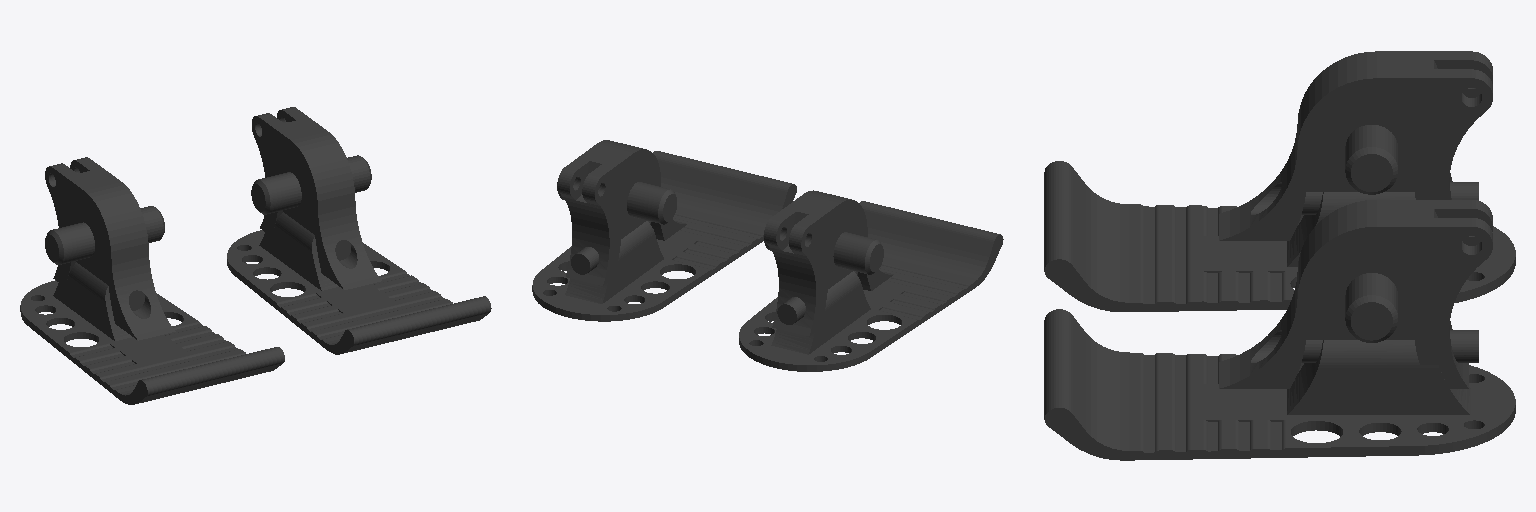
URDF robot description (robot):
<!-- Copyright 2016-2017 The MathWorks, Inc. -->

<robot name = "robot">

<material name = "red_A">
	<color rgba = "0.87 0.32 0.16 1" />
</material>

<material name = "red_B">
	<color rgba = "0.88 0.57 0.48 1" />
</material>

<material name = "gray_A">
	<color rgba = "0.3 0.3 0.3 1" />
</material>

<material name = "gray_B">
	<color rgba = "1 1 1 1" />
</material>

<!-- Trunk Start -->
<link name = "trunk">
	<inertial>
		<origin xyz = "0 0 -0.109" rpy = "0 0 0" />
		<mass value = "0.369" />
		<inertia ixx = "1.334e-3" iyy = "1.935e-3" izz = "6.712e-4" iyz = "0" ixz = "0" ixy = "0" />
	</inertial>
	
	<visual>
		<geometry>
			<mesh filename = "../Part_files/trunk.step" />
		</geometry>
		<material name = "red_A" />
	</visual>
</link>


<link name = "right_hip_yaw_roll">
	<inertial>
		<origin xyz = "+0.00 0.0 -0.03609" rpy = "0 0 0" />
		<mass value = "0" />
		<inertia ixx = "6.712e-8" iyy = "6.712e-8" izz = "6.712e-8" iyz = "0" ixz = "0" ixy = "0" />
	</inertial>

	<visual>
		<origin rpy="0 0 3.14" xyz="-0.00 0.0 -0.03609"/>
		<geometry>
			<mesh filename = "../Part_files/hip_yaw_roll.stl" />
		</geometry>
		<material name = "gray_B" />
	</visual>
</link>


<link name = "left_hip_yaw_roll">
	<inertial>
		<origin xyz = "+0.00 0.0 -0.03609" rpy = "0 0 0" />
		<mass value = "0" />
		<inertia ixx = "6.712e-8" iyy = "6.712e-8" izz = "6.712e-8" iyz = "0" ixz = "0" ixy = "0" />
	</inertial>

	<visual>
		<origin rpy="0 0 0" xyz="+0.0 0.0 -0.03609"/>
		<geometry>
			<mesh filename = "../Part_files/hip_yaw_roll.stl" />
		</geometry>
		<material name = "gray_B" />
	</visual>
</link>

<joint name = "right_hip_sagittal" type = "continuous">
	<!-- <origin xyz = "-0.01905 0 -0.1849" rpy = "0 0 0" /> -->
	<origin xyz = "-0.04205 0 -0.1849" rpy = "0 0 0" />
	<axis xyz = "0 1 0" />
	<dynamics damping = "0.001" />
	<parent link = "trunk" />
	<child link = "right_hip_yaw_roll" />
</joint>

<joint name = "left_hip_sagittal" type = "continuous">
	<!-- <origin xyz = "0.01905 0 -0.1849" rpy = "0 0 0" /> -->
	<origin xyz = "0.04205 0 -0.1849" rpy = "0 0 0" />
	<axis xyz = "0 1 0" />
	<dynamics damping = "0.001" />
	<parent link = "trunk" />
	<child link = "left_hip_yaw_roll" />
</joint>

<!-- Trunk End -->


<!-- Right Leg Start -->

<link name = "right_hip_pitch_yaw">
	<inertial>
		<origin xyz = "0 0 -0.018" rpy = "0 0 0" />
		<mass value = "0" />
		<inertia ixx = "6.712e-8" iyy = "6.712e-8" izz = "6.712e-8" iyz = "0" ixz = "0" ixy = "0" />
	</inertial>

	<visual>
		<geometry>
			<mesh filename = "../Part_files/hip_pitch_yaw.stl" />
		</geometry>
		<material name = "gray_B" />
	</visual>
</link>

<joint name = "right_hip_yaw" type = "continuous">
	<origin xyz = "-0.0 0.0 -0.03609" rpy = "0 0 0" />
	<axis xyz = "1 0 0" />
	<dynamics damping = "0.005" />
	<parent link = "right_hip_yaw_roll" />
	<child link = "right_hip_pitch_yaw" />
</joint>

<link name = "right_upper_leg">
	<inertial>
		<origin xyz = "0 0.00 0" rpy = "0 0 0" />
		<mass value = "0.176" />
		<inertia ixx = "4.075e-4" iyy = "4.285e-4" izz = "4.997e-5" iyz = "0" ixz = "0" ixy = "0" />
	</inertial>

	<visual>
		<origin rpy="0 0 0" xyz="+0.0254 0.0 0.0"/>
		<geometry>
			<mesh filename = "../Part_files/upper_leg.step" />
		</geometry>
		<material name = "gray_B" />
	</visual>
</link>

<joint name = "right_hip_pitch" type = "continuous">
	<origin xyz = "0.0 0 -0.025" rpy = "0 0 0" />
	<axis xyz = "1 0 0" />
	<dynamics damping = "0.005" />
	<parent link = "right_hip_pitch_yaw" />
	<child link = "right_upper_leg" />
</joint>

<link name = "right_lower_leg">
	<inertial>
		<origin xyz = "0.000 0.00 0" rpy = "0 0 0" />
		<mass value = "0.161" />
		<inertia ixx = "3.775e-4" iyy = "3.872e-4" izz = "3.398e-5" iyz = "0" ixz = "0" ixy = "0" />
	</inertial>

	<visual>
		<geometry>
			<mesh filename = "../Part_files/lower_leg.step" />
		</geometry>
		<material name = "gray_B" />
	</visual>
</link>

<joint name = "right_knee" type = "continuous">
	<origin xyz = "0 0 -0.1043" rpy = "0 0 0" />
	<axis xyz = "1 0 0" />
	<dynamics damping = "0.005" />
	<parent link = "right_upper_leg" />
	<child link = "right_lower_leg" />
</joint>


<link name = "right_foot_joint">
	<inertial>
		<origin xyz = "0 0 0" rpy = "0 0 0" />
		<mass value = "0.0" />
		<inertia ixx = "6.712e-20" iyy = "6.712e-20" izz = "6.712e-20" iyz = "0" ixz = "0" ixy = "0" />
	</inertial>

	<visual>
		<geometry>
			<mesh filename = "../Part_files/foot_joint.stl" />
		</geometry>
		<material name = "gray_A" />
	</visual>
</link>

<joint name = "right_ankle_pitch" type = "continuous">
	<origin xyz = "0 0.0 -0.1043" rpy = "0 0 0" />
	<axis xyz = "1 0 0" />
	<dynamics damping = "0.005" />
	<parent link = "right_lower_leg" />
	<child link = "right_foot_joint" />
</joint>


<link name = "right_foot_floor">
	<inertial>
		<origin xyz = "0 -0.013 -0.011" rpy = "0 0 0" />
		<mass value = "0.126" />
		<inertia ixx = "1.256e-4" iyy = "3.787e-5" izz = "1.145e-4" iyz = "-2.238e-5" ixz = "0" ixy = "0" />
	</inertial>

	<visual>
		<geometry>
			<mesh filename = "../Part_files/foot_floor.stl" />
		</geometry>
		<material name = "gray_A" />
	</visual>
</link>

<joint name = "right_ankle_roll" type = "continuous">
	<origin xyz = "0 0.0022 -0.0167" rpy = "0 0 0" />
	<axis xyz = "0 1 0" />
	<dynamics damping = "0.005" />
	<parent link = "right_foot_joint" />
	<child link = "right_foot_floor" />
</joint>



<!-- Right Leg End -->


<!-- Left Leg Start -->

<link name = "left_hip_pitch_yaw">
	<inertial>
		<origin xyz = "0 0 -0.018" rpy = "0 0 0" />
		<mass value = "0" />
		<inertia ixx = "6.712e-8" iyy = "6.712e-8" izz = "6.712e-8" iyz = "0" ixz = "0" ixy = "0" />
	</inertial>

	<visual>
		<geometry>
			<mesh filename = "../Part_files/hip_pitch_yaw.stl" />
		</geometry>
		<material name = "gray_B" />
	</visual>
</link>

<joint name = "left_hip_yaw" type = "continuous">
	<origin xyz = "0.0 0.0 -0.03609" rpy = "0 0 0" />
	<axis xyz = "1 0 0" />
	<dynamics damping = "0.005" />
	<parent link = "left_hip_yaw_roll" />
	<child link = "left_hip_pitch_yaw" />
</joint>

<link name = "left_upper_leg">
	<inertial>
		<origin xyz = "0 0.00 0" rpy = "0 0 0" />
		<mass value = "0.176" />
		<inertia ixx = "4.075e-4" iyy = "4.285e-4" izz = "4.997e-5" iyz = "0" ixz = "0" ixy = "0" />
	</inertial>

	<visual>
		<origin rpy="0 0 0" xyz="0.0254 0.0 0"/>
		<geometry>
			<mesh filename = "../Part_files/upper_leg.step" />
		</geometry>
		<material name = "gray_B" />
	</visual>
</link>

<joint name = "left_hip_pitch" type = "continuous">
	<origin xyz = "0 0 -0.025" rpy = "0 0 0" />
	<axis xyz = "1 0 0" />
	<dynamics damping = "0.005" />
	<parent link = "left_hip_pitch_yaw" />
	<child link = "left_upper_leg" />
</joint>

<link name = "left_lower_leg">
	<inertial>
		<origin xyz = "0.000 0.00 0" rpy = "0 0 0" />
		<mass value = "0.161" />
		<inertia ixx = "3.775e-4" iyy = "3.872e-4" izz = "3.398e-5" iyz = "0" ixz = "0" ixy = "0" />
	</inertial>

	<visual>
		<geometry>
			<mesh filename = "../Part_files/lower_leg.step" />
		</geometry>
		<material name = "gray_B" />
	</visual>
</link>

<joint name = "left_knee" type = "continuous">
	<origin xyz = "0.0 0 -0.1043" rpy = "0 0 0" />
	<axis xyz = "1 0 0" />
	<dynamics damping = "0.005" />
	<parent link = "left_upper_leg" />
	<child link = "left_lower_leg" />
</joint>

<link name = "left_foot_joint">
	<inertial>
		<origin xyz = "0 0 0" rpy = "0 0 0" />
		<mass value = "0.0" />
		<inertia ixx = "6.712e-20" iyy = "6.712e-20" izz = "6.712e-20" iyz = "0" ixz = "0" ixy = "0" />
	</inertial>

	<visual>
		<geometry>
			<mesh filename = "../Part_files/foot_joint.stl" />
		</geometry>
		<material name = "gray_A" />
	</visual>
</link>

<joint name = "left_ankle_pitch" type = "continuous">
	<origin xyz = "0 0.0 -0.1043" rpy = "0 0 0" />
	<axis xyz = "1 0 0" />
	<dynamics damping = "0.005" />
	<parent link = "left_lower_leg" />
	<child link = "left_foot_joint" />
</joint>


<link name = "left_foot_floor">
	<inertial>
		<origin xyz = "0 -0.013 -0.011" rpy = "0 0 0" />
		<mass value = "0.126" />
		<inertia ixx = "1.256e-4" iyy = "3.787e-5" izz = "1.145e-4" iyz = "-2.238e-5" ixz = "0" ixy = "0" />
	</inertial>

	<visual>
		<geometry>
			<mesh filename = "../Part_files/foot_floor.stl" />
		</geometry>
		<material name = "gray_A" />
	</visual>
</link>

<joint name = "left_ankle_roll" type = "continuous">
	<origin xyz = "0 0.0022 -0.0167" rpy = "0 0 0" />
	<axis xyz = "0 1 0" />
	<dynamics damping = "0.005" />
	<parent link = "left_foot_joint" />
	<child link = "left_foot_floor" />
</joint>



<!-- Left Leg End -->
<link name = "waistline">
	<inertial>
		<origin xyz = "0 0 0" rpy = "0 0 0" />
		<mass value = "0.0" />
		<inertia ixx = "1.008e-40" iyy = "2.751e-40" izz = "3.104e-40" iyz = "0" ixz = "0" ixy = "0" />
	</inertial>
	
	<visual>
		<geometry>
			<mesh filename = "waistline.step" />
		</geometry>
		<material name = "color_A" />
	</visual>
</link>

<joint name = "trunk_waistline_fixed" type = "fixed">
	<origin xyz = "0 0 -0.1849" rpy = "0 0 0" />
	<parent link = "trunk" />
	<child link = "waistline" />
</joint>

<link name = "shoulder_line">
	<inertial>
		<origin xyz = "0 0 0.003" rpy = "0 0 0" />
		<mass value = "0.00" />
		<inertia ixx = "1.753e-50" iyy = "4.884e-50" izz = "4.634e-50" iyz = "0" ixz = "0" ixy = "0" />
	</inertial>
	
	<visual>
		<geometry>
			<mesh filename = "shoulder_line.step" />
		</geometry>
		<material name = "red_B" />
	</visual>
</link>

<joint name = "trunk_shoulder" type = "fixed">
	<origin xyz = "0 0 -0.0399" rpy = "0 0 0" />
	<axis xyz = "1 0 0" />
	<dynamics damping = "0.05" />
	<parent link = "trunk" />
	<child link = "shoulder_line" />
</joint>


<link name = "neck">
	<inertial>
		<origin xyz = "0 0 0.019" rpy = "0 0 0" />
		<mass value = "0" />
		<inertia ixx = "6.005e-60" iyy = "8.752e-60" izz = "3.339e-60" iyz = "0" ixz = "0" ixy = "0" />
	</inertial>
	
	<visual>
		<geometry>
			<mesh filename = "neck.step" />
		</geometry>
		<material name = "gray_B" />
	</visual>
</link>

<joint name = "shoulder_neck" type = "fixed">
	<origin xyz = "0 0 0.01016" rpy = "0 0 0" />
	<axis xyz = "0 0 1" />
	<dynamics damping = "0.001" />
	<parent link = "shoulder_line" />
	<child link = "neck" />
</joint>

<link name = "head">
	<inertial>
		<origin xyz = "0 0.002 0" rpy = "0 0 0" />
		<mass value = "0" />
		<inertia ixx = "6.874e-60" iyy = "8.226e-60" izz = "6.992e-60" iyz = "0" ixz = "0" ixy = "0" />
	</inertial>
	
	<visual>
		<geometry>
			<mesh filename = "head.step" />
		</geometry>
		<material name = "gray_A" />
	</visual>
</link>

<link name = "cover">
	<inertial>
		<origin xyz = "0 -0.024 0" rpy = "0 0 0" />
		<mass value = "0" />
		<inertia ixx = "1.030e-60" iyy = "2.060e-60" izz = "1.030e-60" iyz = "0" ixz = "0" ixy = "0" />
	</inertial>
	
	<visual>
		<geometry>
			<mesh filename = "cover.step" />
		</geometry>
		<material name = "gray_B" />
	</visual>
</link>

<joint name = "neck_head" type = "fixed">
	<origin xyz = "0 0 0.06414" rpy = "0 0 0" />
	<parent link = "neck" />
	<child link = "head" />
</joint>

<joint name = "head_cover_fixed" type = "fixed">
	<origin xyz = "0 0 0" rpy = "0 0 0" />
	<parent link = "head" />
	<child link = "cover" />
</joint>

</robot>

--- What the picture shows (computed from the rendered views, not written in the file) ---
3 views of the same robot in one strip: view 1: azimuth 30°, elevation 25°; view 2: azimuth 150°, elevation 25°; view 3: azimuth 270°, elevation 25° (orthographic).
Robot: robot — 18 links, 17 joints (12 continuous, 5 fixed); root link trunk; default pose: every joint at zero.
Links seen in each view (by area): view 1: right_foot_floor, left_foot_floor, left_foot_joint, right_foot_joint; view 2: right_foot_floor, left_foot_floor, left_foot_joint, right_foot_joint; view 3: left_foot_floor, right_foot_floor, left_foot_joint, right_foot_joint.
Boxes of the visible links, x1,y1,x2,y2 form: right_foot_floor: (20, 262, 284, 404); left_foot_floor: (227, 212, 491, 354); left_foot_joint: (251, 107, 381, 289); right_foot_joint: (45, 157, 175, 340); right_foot_floor: (739, 201, 1003, 371); left_foot_floor: (532, 151, 796, 321); left_foot_joint: (557, 140, 686, 285); right_foot_joint: (764, 190, 893, 336); left_foot_floor: (1044, 309, 1515, 460); right_foot_floor: (1044, 161, 1515, 311); left_foot_joint: (1219, 200, 1492, 388); right_foot_joint: (1219, 51, 1492, 240).
Bounding box of the posed robot: 0.14 × 0.1129 × 0.0534 m (x, y, z).
Meshes: 12 distinct files referenced, 4 mesh visuals loaded (2 binary STL); not drawn: 14 (reference not matched to a file when rendering).